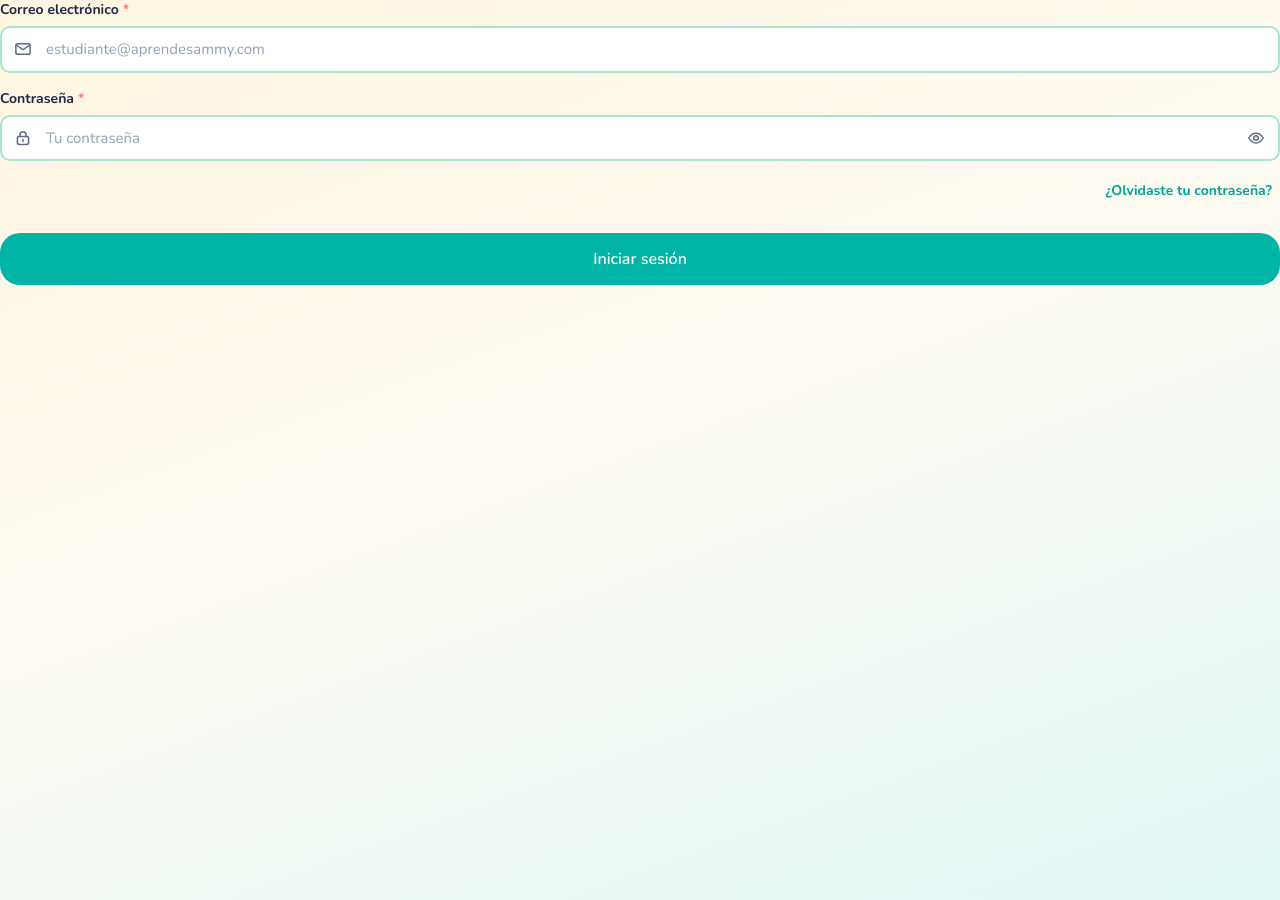
Test: LoginForm — recuperación de contraseña › no anida formularios: HTML inválido y envío impredecible
The image size is (1280, 900).
Check: the number of forms is 1, box [0,0,1279,285]
Click the button "¿Olvidaste tu contraseña?" at [1189, 191], box [1098,173,1279,209]
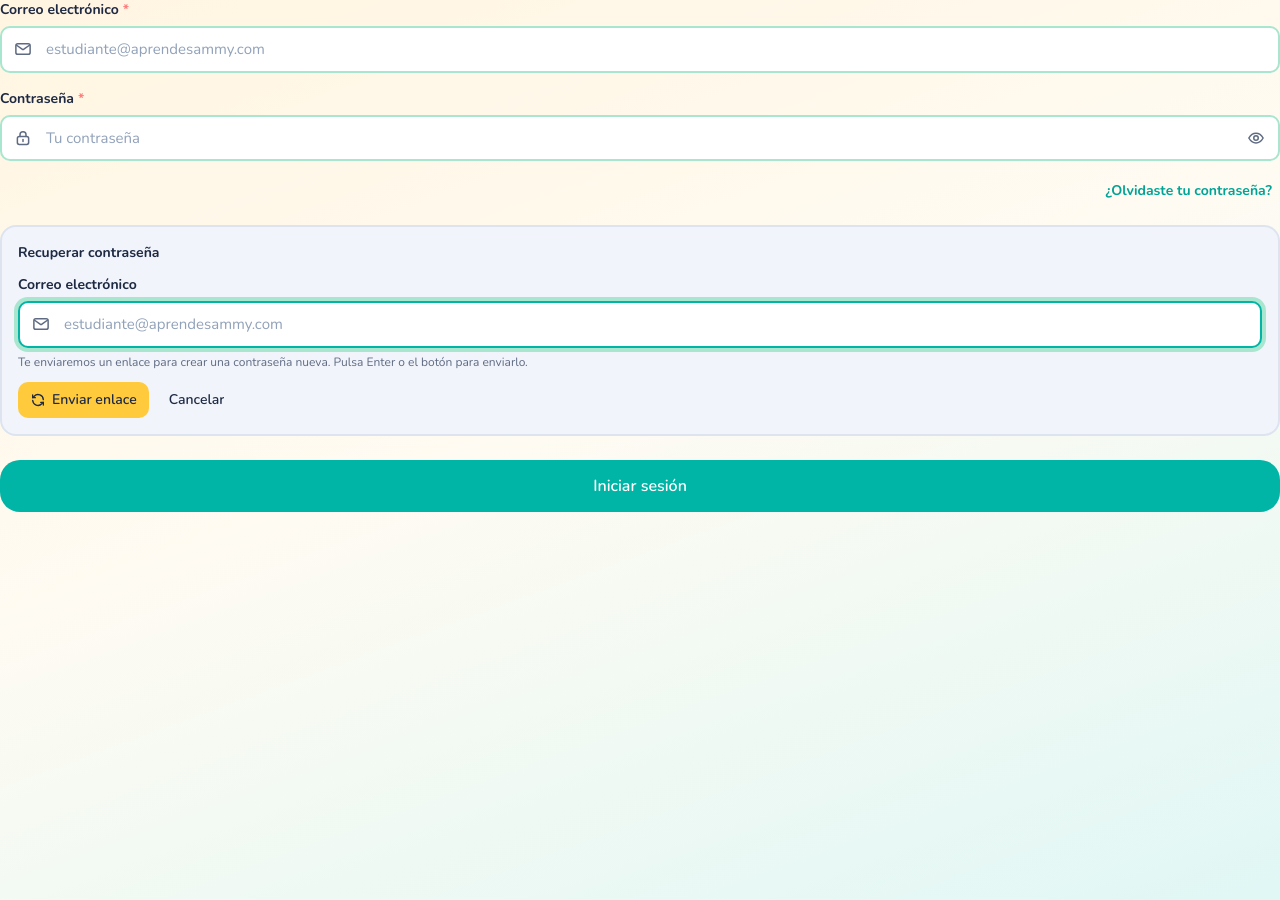
Check: the number of forms is 1, box [0,0,1279,512]
Check: the text "Recuperar contraseña" is shown, box [18,243,160,262]
